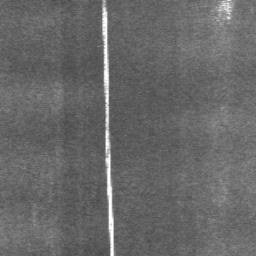Bright scratch: (102, 0, 114, 256)
